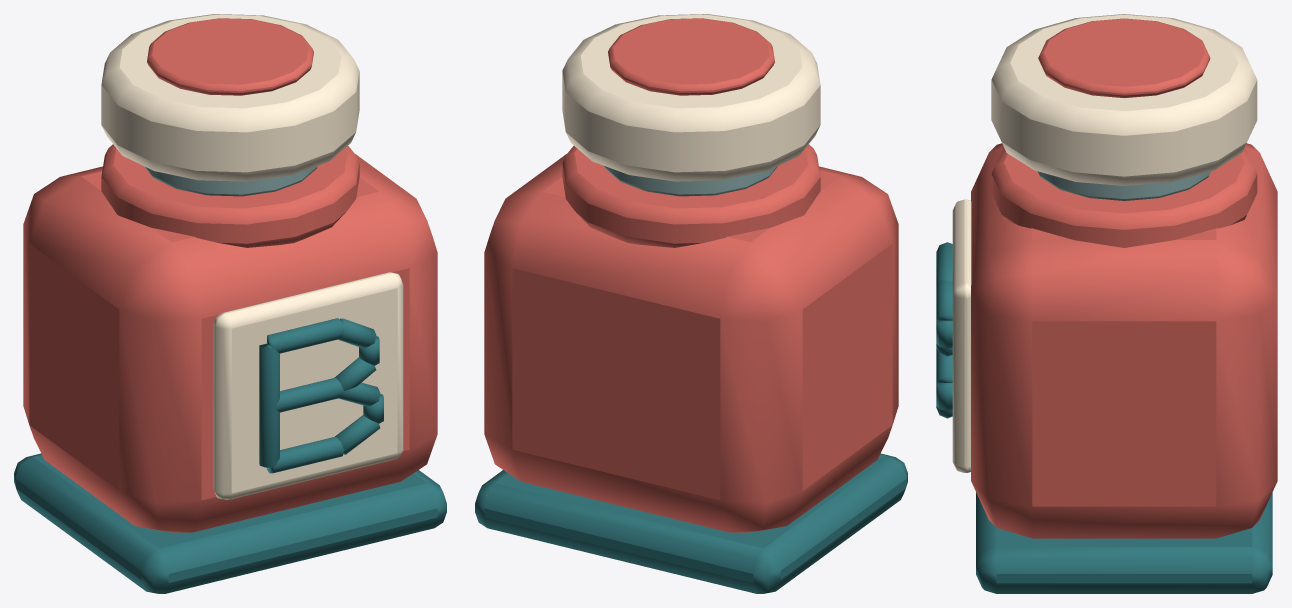
Rendered from burn-heal-bottle.glb.
3 renders of one model, left to right at view 1: azimuth 30°, elevation 25°; view 2: azimuth 150°, elevation 25°; view 3: azimuth 270°, elevation 25°, orthographic. The views are drawn at different scales.
Parts seen in each view (by area): view 1: CoralEnamel, CeramicCream, DeepTeal, BrushedMetal; view 2: CoralEnamel, CeramicCream, DeepTeal, BrushedMetal; view 3: CoralEnamel, CeramicCream, DeepTeal, BrushedMetal.
Part boxes in pixels (<box>): CoralEnamel: <box>23,18,437,532</box>; CeramicCream: <box>101,14,403,499</box>; DeepTeal: <box>14,318,446,593</box>; BrushedMetal: <box>144,166,317,196</box>; CoralEnamel: <box>484,18,898,532</box>; CeramicCream: <box>562,14,820,181</box>; DeepTeal: <box>475,453,907,593</box>; BrushedMetal: <box>604,166,777,196</box>; CoralEnamel: <box>971,18,1277,538</box>; CeramicCream: <box>952,14,1257,472</box>; DeepTeal: <box>936,242,1272,593</box>; BrushedMetal: <box>1037,171,1210,200</box>.
Size of the model in its own units: 0.36 by 0.511 by 0.334.
